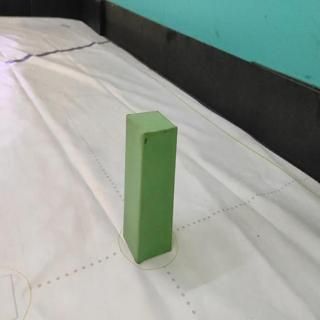greenbox: (122, 109, 180, 267)
